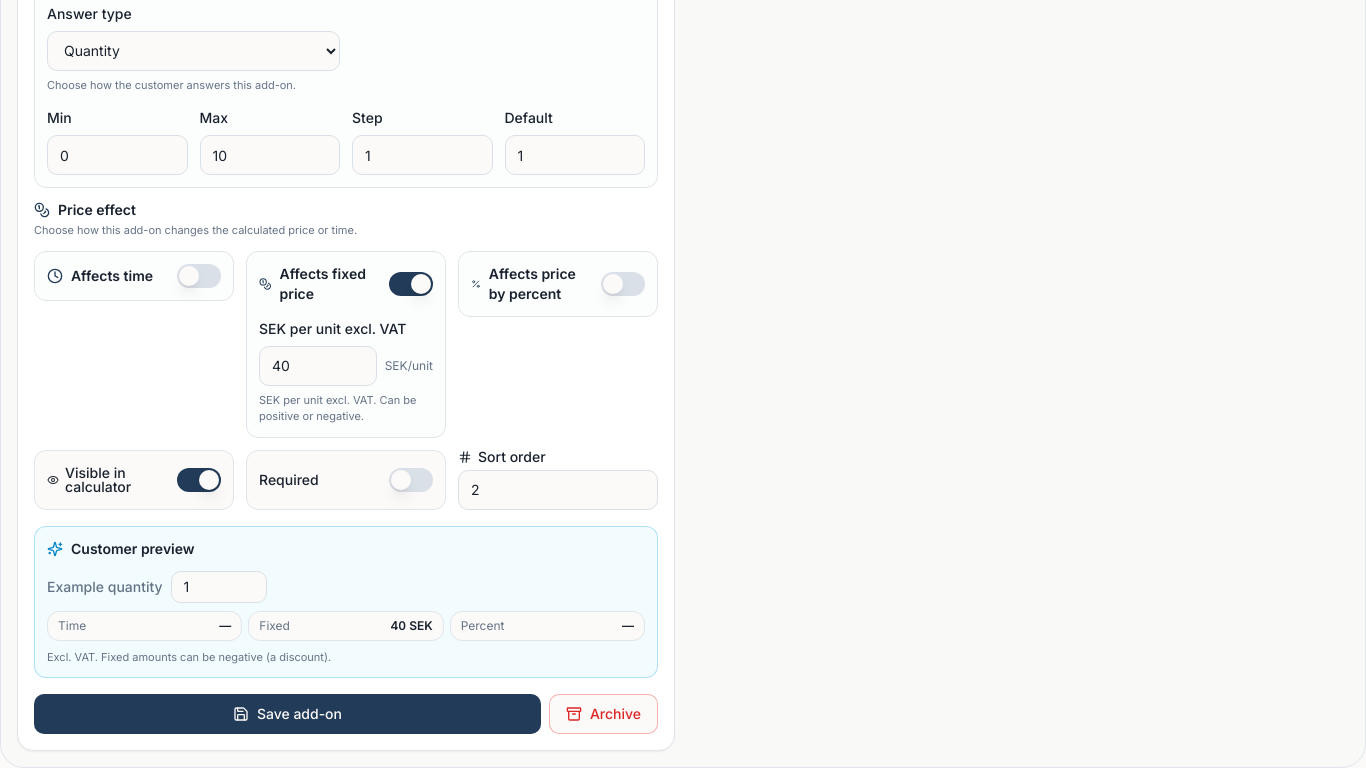
Test case: CalculatorAddonsEditor › previews a quantity add-on using the example quantity (5 × 40 = 200 SEK)
This screenshot has width=1366, height=768.
(page scrolled)
Replace the text in the number field labelled "Example quantity" with "5" at [219, 586], box [171,570,267,602]
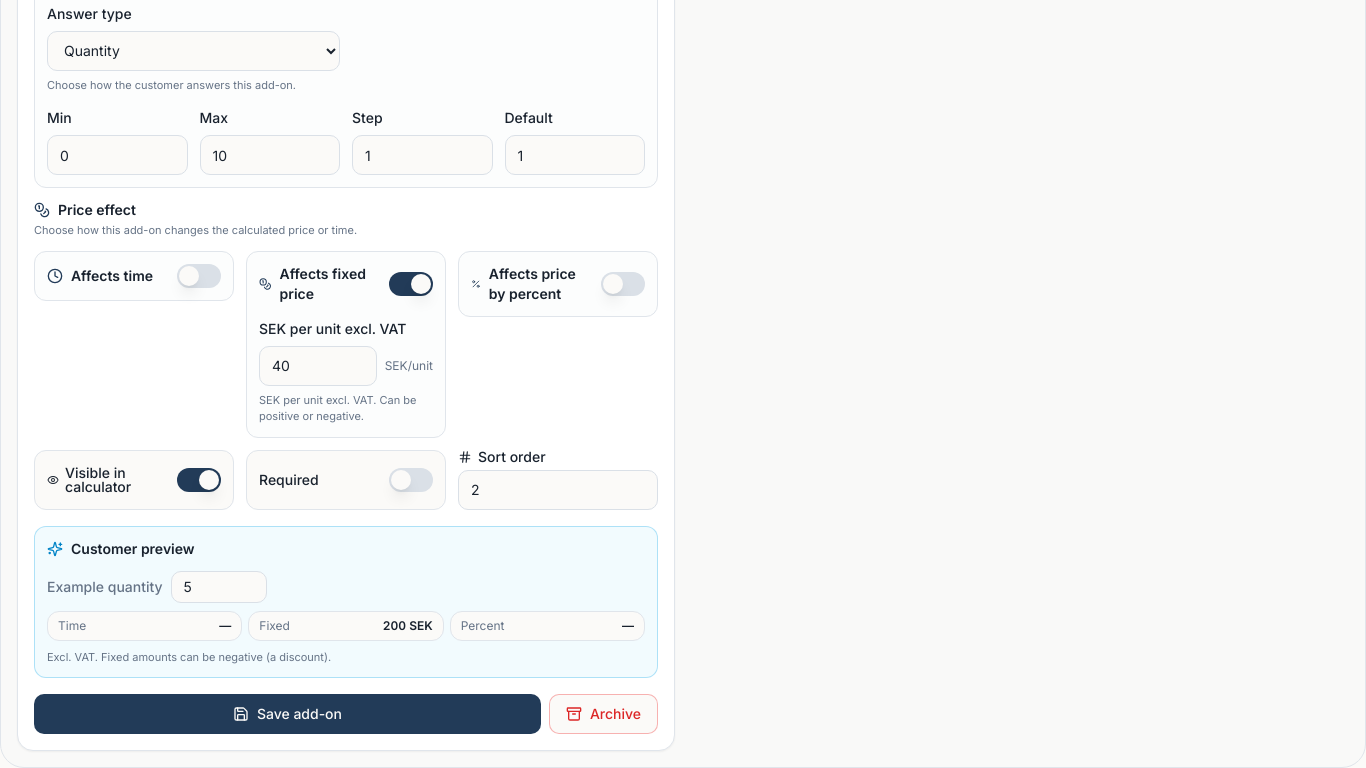
Result: the text "200 SEK" is shown at [383,618,433,634]
